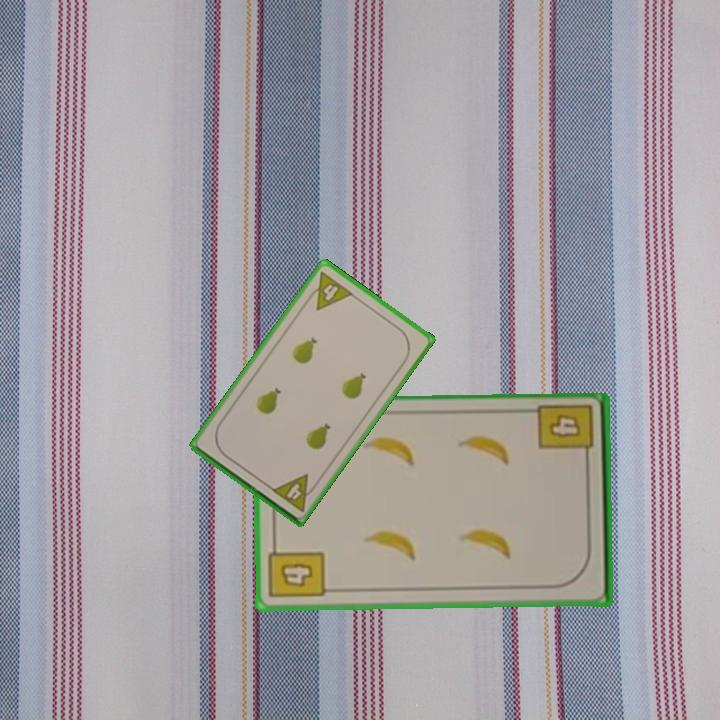4b: (535, 401, 597, 467), (266, 539, 327, 601)
4p: (302, 268, 356, 313), (268, 470, 321, 514)
